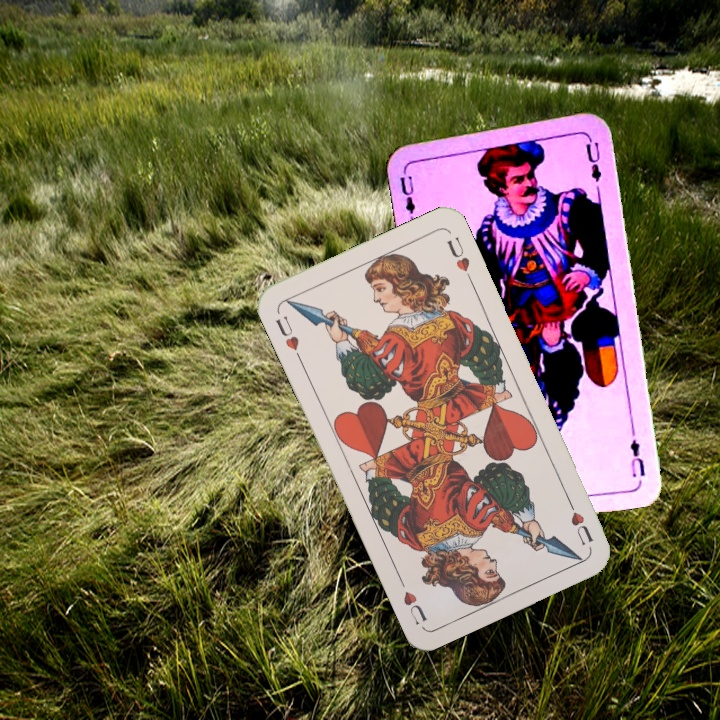EU: (396, 164, 418, 223), (626, 435, 648, 480)
HU: (563, 494, 596, 548), (271, 311, 305, 363)
